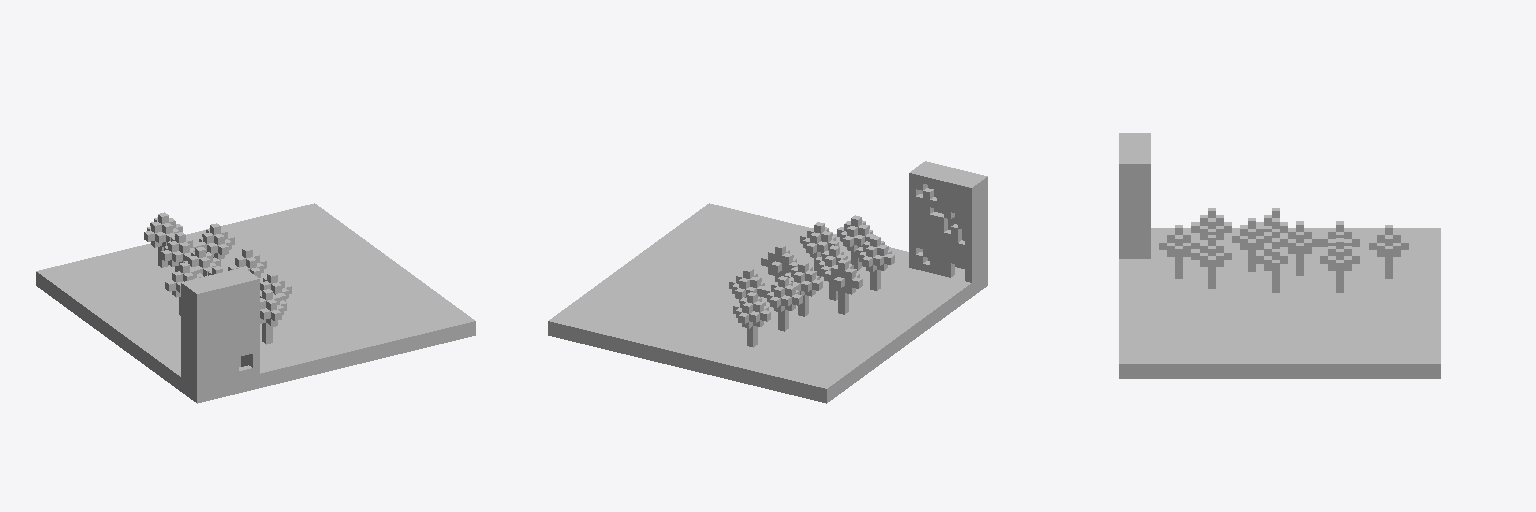
Rendered from Escenario de prueba.obj.
The picture shows the model from 3 angles: view 1: azimuth 30°, elevation 25°; view 2: azimuth 150°, elevation 25°; view 3: azimuth 270°, elevation 25°; orthographic projection.
Visible parts, largest first — view 1: object 1; view 2: object 1; view 3: object 1.
Boxes of the visible parts, x1=… form: object 1: x1=36, y1=203, x2=475, y2=403; object 1: x1=548, y1=161, x2=987, y2=403; object 1: x1=1119, y1=133, x2=1440, y2=378.
Size of the model in its own units: 4 by 1.5 by 4.